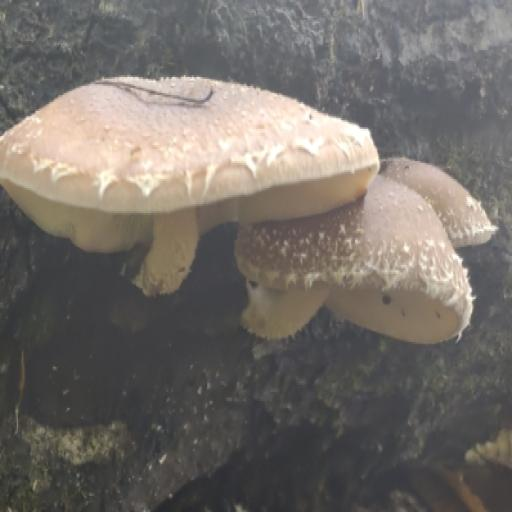Shiitake Mushroom: (0, 22, 512, 395)
